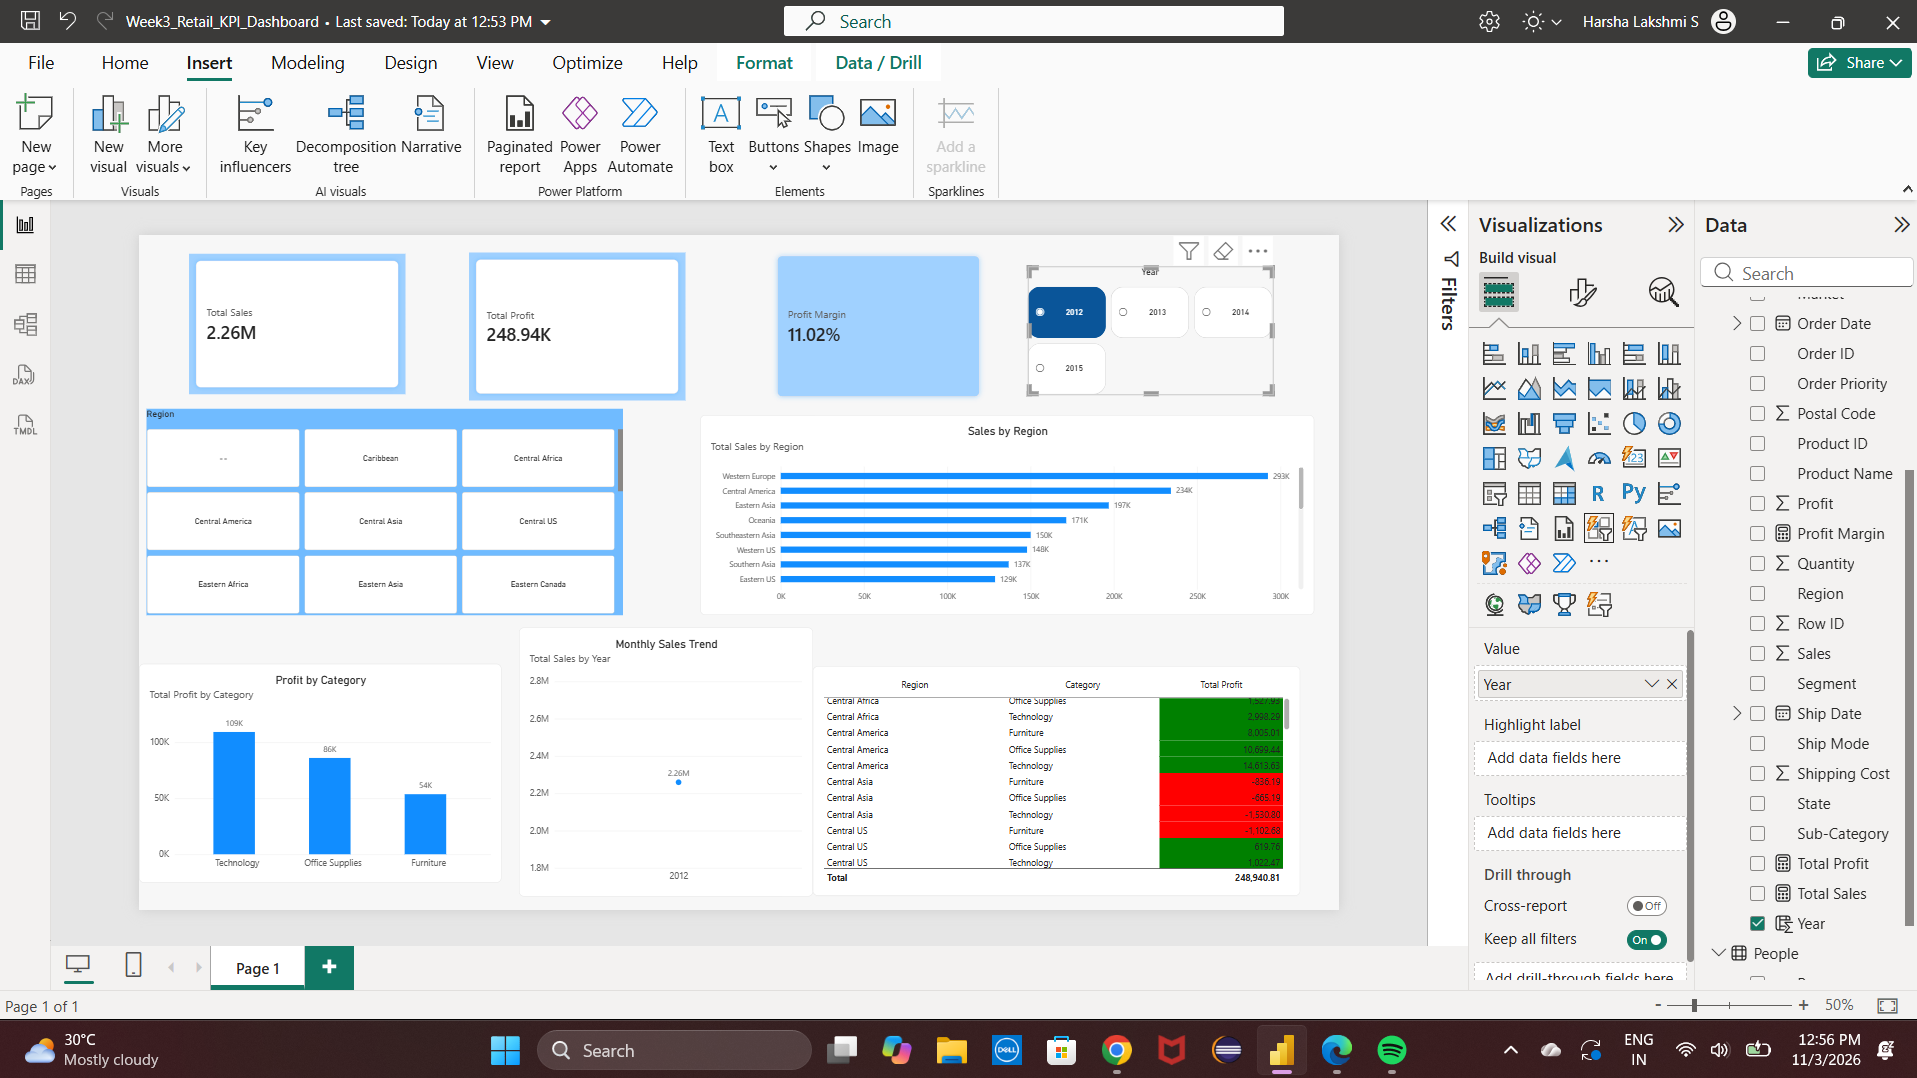

This screenshot's page, from the dashboard's own definition file:
{"tool":"powerbi","page":{"name":"Page 1","canvas":[1920,1080],"ordinal":0},"visuals":[{"type":"cardVisual","fields":{"Data":["Orders.Total Sales"]},"box":[80,30,347,225.5],"z":0},{"type":"cardVisual","fields":{"Data":["Orders.Total Profit"]},"box":[527.5,27.5,347,237.1],"z":1},{"type":"cardVisual","fields":{"Data":["Orders.Profit Margin"]},"box":[1010,22.5,347,248.7],"z":2},{"type":"advancedSlicerVisual","fields":{"Values":["People.Region"]},"box":[12.5,277.5,762.5,330],"z":3},{"type":"advancedSlicerVisual","fields":{"Values":["Orders.Year"]},"box":[1422.5,50,392.5,205],"z":4},{"type":"clusteredBarChart","title":"Sales by Region","fields":{"Category":["People.Region"],"Y":["Orders.Total Sales"]},"box":[897.5,287.5,982.5,320],"z":5},{"type":"clusteredColumnChart","title":"Profit by Category","fields":{"Category":["Orders.Category"],"Y":["Orders.Total Profit"]},"box":[0,685,580,350],"z":6},{"type":"lineChart","title":"Monthly Sales Trend","fields":{"Category":["Orders.Order Date.Variation.Date Hierarchy.Year","Orders.Order Date.Variation.Date Hierarchy.Quarter","Orders.Order Date.Variation.Date Hierarchy.Month","Orders.Order Date.Variation.Date Hierarchy.Day"],"Y":["Orders.Total Sales"]},"box":[607.5,627.5,470,430],"z":7},{"type":"tableEx","fields":{"Values":["Orders.Region","Orders.Category","Orders.Total Profit"]},"box":[1077.5,690,780,367.5],"z":8}]}

Visuals, with their boxes on the page's 1920x1080 design canvas (x1, y1, x2, y2). These are canvas units, not pixel positions in the 1917x1078 screenshot, which may show the page scaled, cropped or inside an application window:
cardVisual - Orders.Total Sales: select_region(80, 30, 427, 256)
cardVisual - Orders.Total Profit: select_region(528, 28, 874, 265)
cardVisual - Orders.Profit Margin: select_region(1010, 22, 1357, 271)
advancedSlicerVisual - People.Region: select_region(12, 278, 775, 608)
advancedSlicerVisual - Orders.Year: select_region(1422, 50, 1815, 255)
"Sales by Region" clusteredBarChart: select_region(898, 288, 1880, 608)
"Profit by Category" clusteredColumnChart: select_region(0, 685, 580, 1035)
"Monthly Sales Trend" lineChart: select_region(608, 628, 1078, 1058)
tableEx - Orders.Region x Orders.Category: select_region(1078, 690, 1858, 1058)
